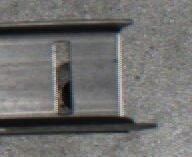40ngpress: (12, 19, 141, 131)
